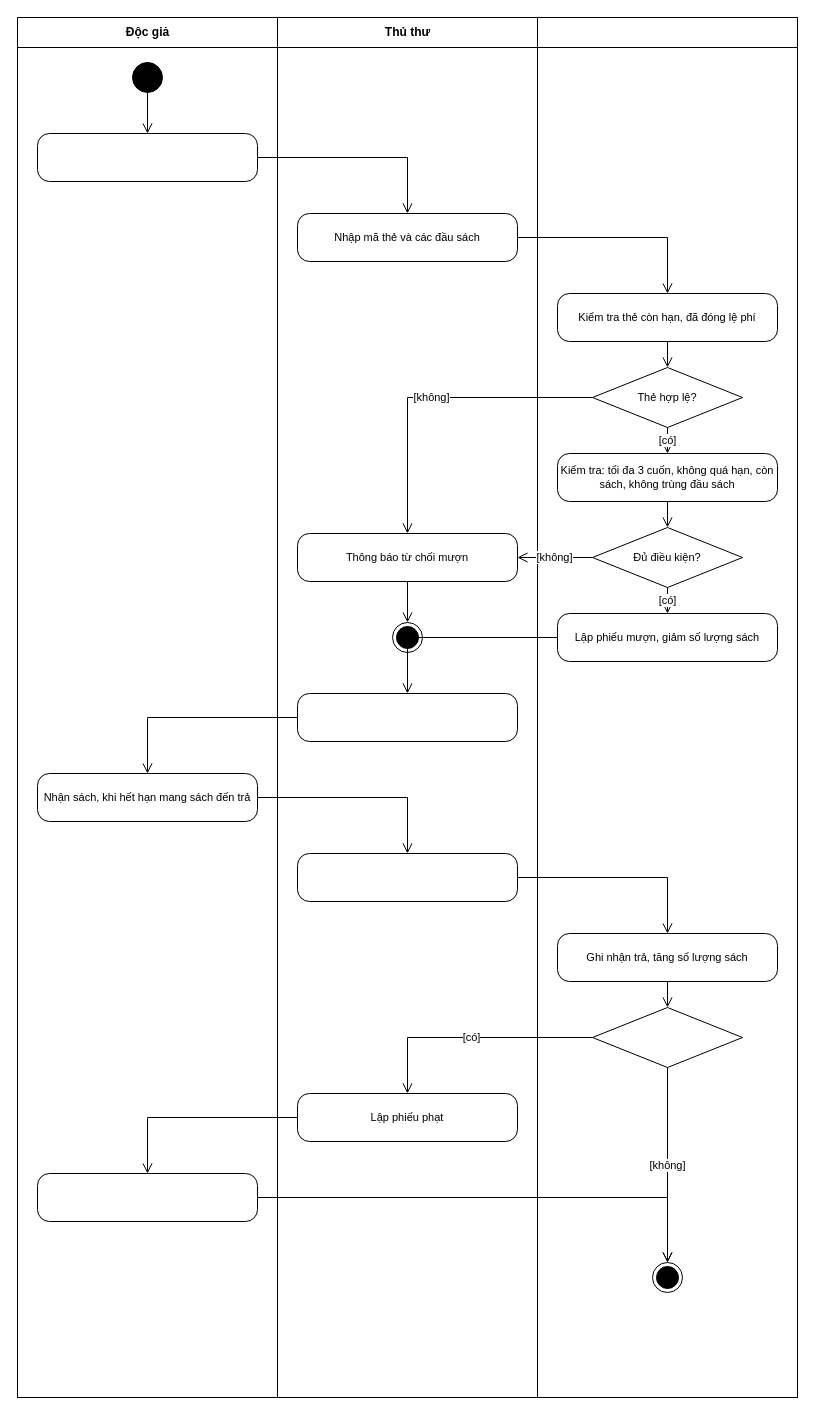
Some shapes in this 815 by 1415 pixel diagram are drawn without their labels. Here are the shapes that lost their labels. From the top down, the box of each, then its label:
(36, 132, 258, 182): Đưa thẻ và chọn sách muốn mượn
(296, 692, 518, 742): Giao sách cho độc giả
(536, 16, 798, 1398): Hệ thống
(296, 852, 518, 902): Kiểm tra tình trạng sách và ngày trả
(592, 1006, 742, 1068): Trễ hạn / mất / hư?
(36, 1172, 258, 1222): Nộp tiền phạt
